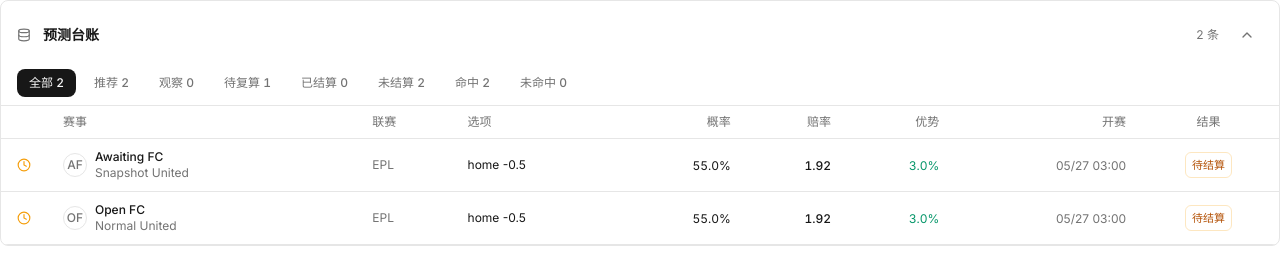
it: LedgerTable a11y › shows filter counts and can focus awaiting reanalysis rows
This screenshot has width=1280, height=263.
What coordinates should you click on to do the following:
click the button "待复算 1"
I would click on:
 (248, 83)
Its box is [212, 69, 283, 97].
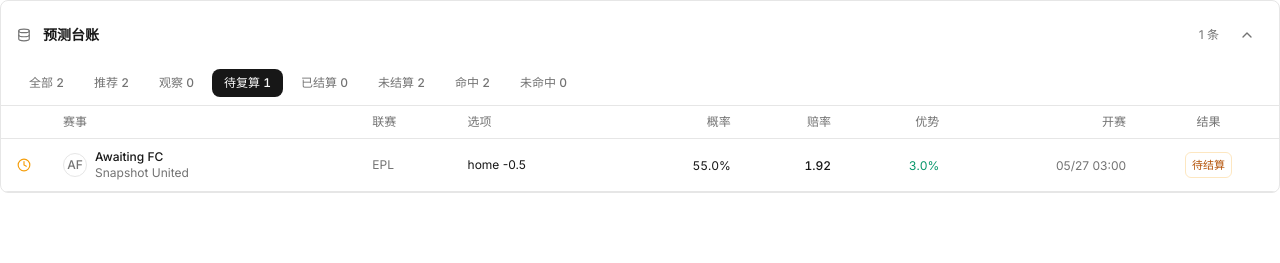
Expected: the text "Awaiting FC" is shown, [95, 149, 163, 164]
Expected: the button "Open FC" is gone
